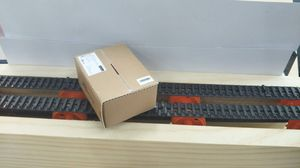box1: (72, 42, 159, 128)
